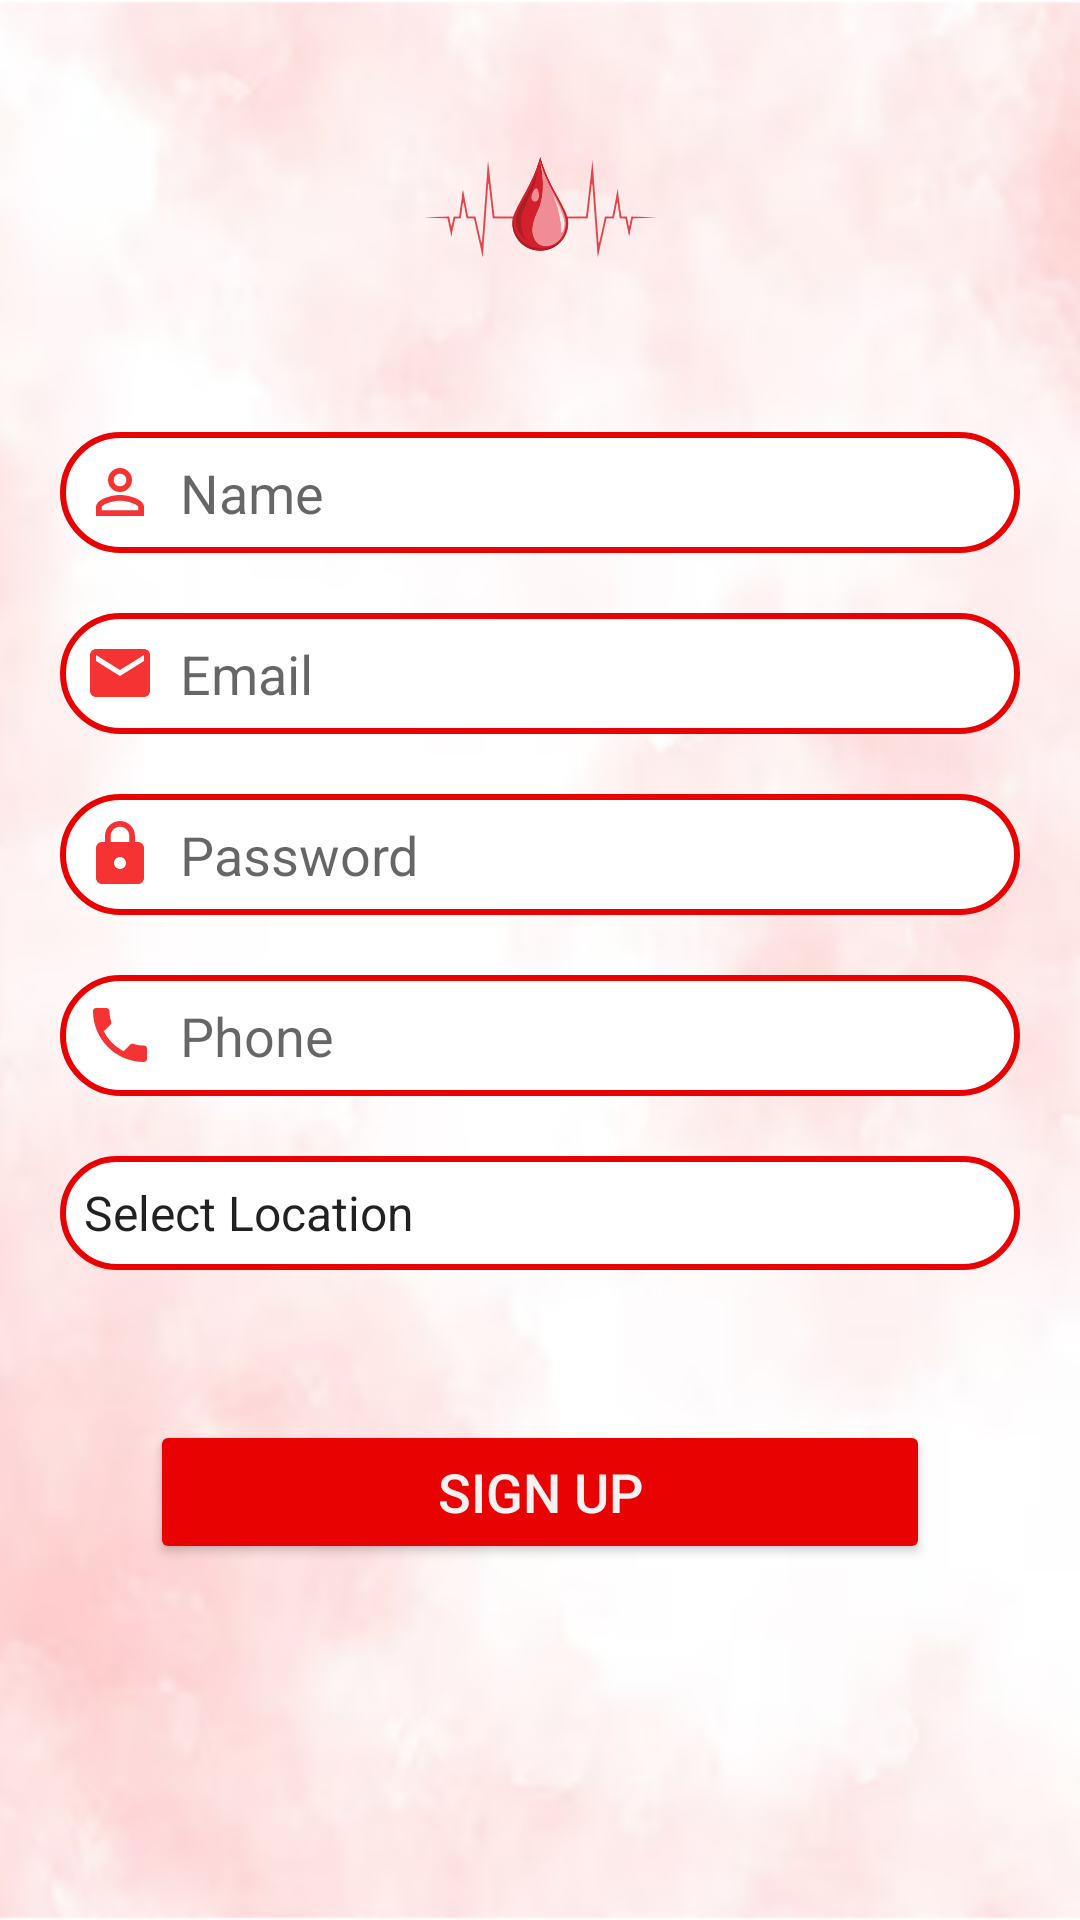

Locate icon controls on the screen. Image size 1080px×1920px, boxes as (x1, y1, x2, y2).
blood dot: (426, 157, 655, 257)
